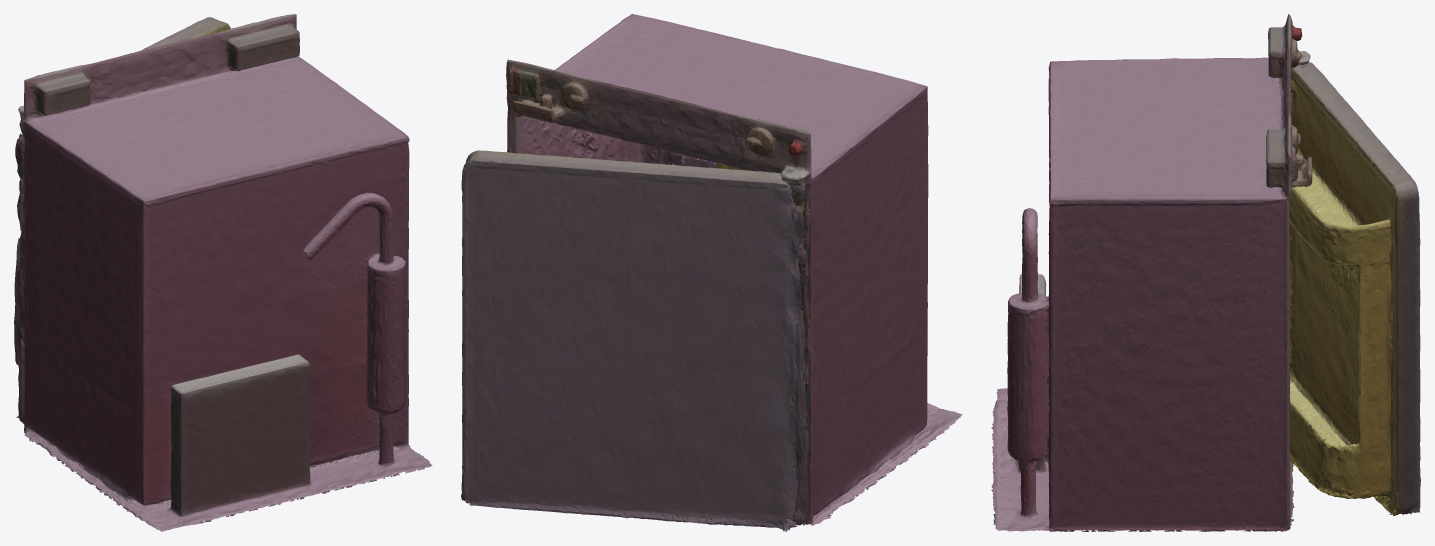
The model's file is fridge_10905.glb.
The picture shows the model from 3 angles, left to right: view 1: azimuth 30°, elevation 25°; view 2: azimuth 150°, elevation 25°; view 3: azimuth 270°, elevation 25°; orthographic projection. The views are drawn at different scales.
Visible parts, largest first — view 1: fridge_10905_start_0, fridge_10905_start_1; view 2: fridge_10905_start_1, fridge_10905_start_0; view 3: fridge_10905_start_0, fridge_10905_start_1.
Part boxes in pixels (x1,y1,x2,y2): fridge_10905_start_0: (18,14,432,531); fridge_10905_start_1: (14,17,230,417); fridge_10905_start_1: (461,150,805,531); fridge_10905_start_0: (506,14,962,525); fridge_10905_start_0: (991,14,1312,531); fridge_10905_start_1: (1289,62,1420,515).
Size of the model in its own units: 0.7776 by 0.9346 by 0.9619.
